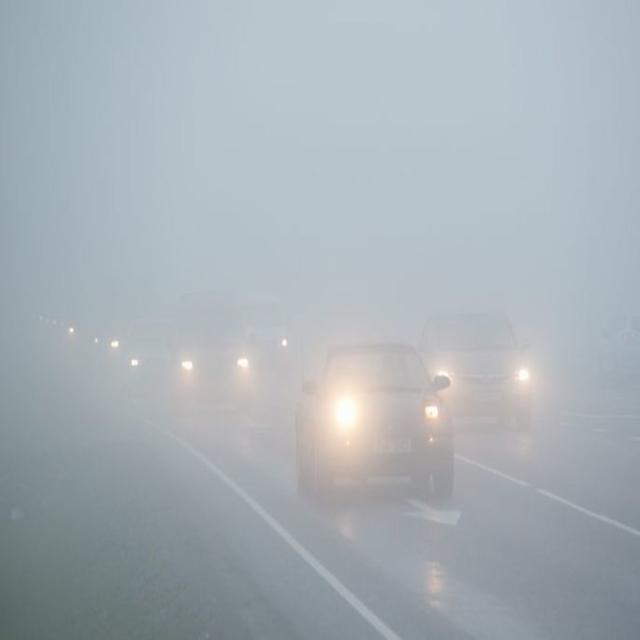car: (299, 345, 451, 508), (416, 308, 528, 435), (171, 292, 252, 406), (125, 312, 179, 390), (244, 286, 288, 372), (103, 308, 124, 362)
